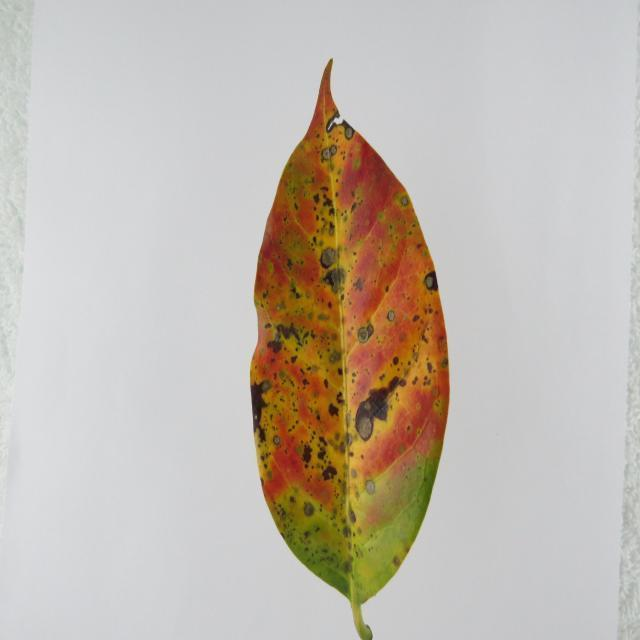DeficienciaNutricional-Fosforo: (250, 60, 449, 638)
